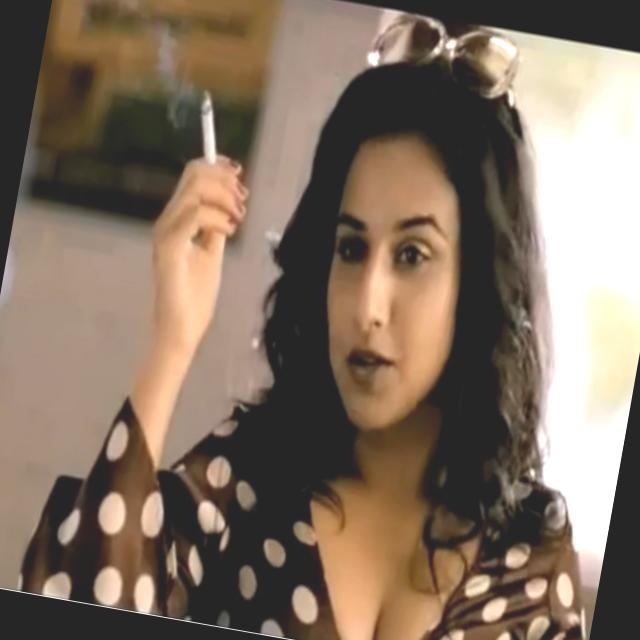cigarette: (170, 78, 228, 156)
